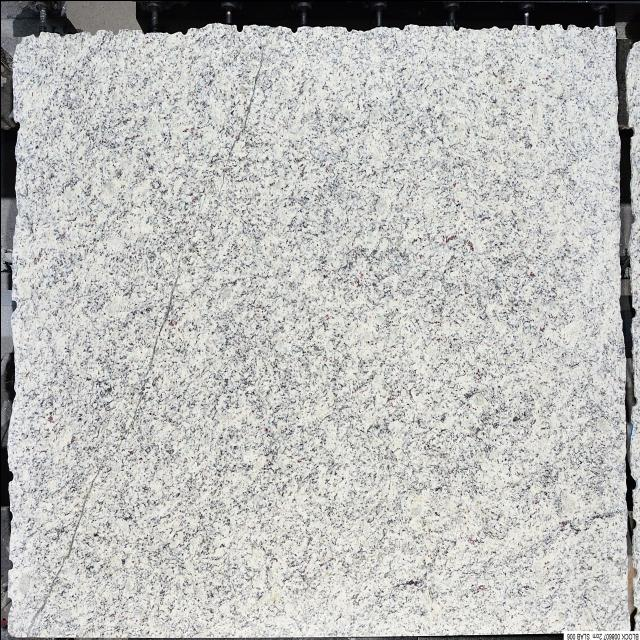chapa: (8, 24, 628, 634)
veio: (4, 470, 16, 486), (4, 558, 14, 575)
